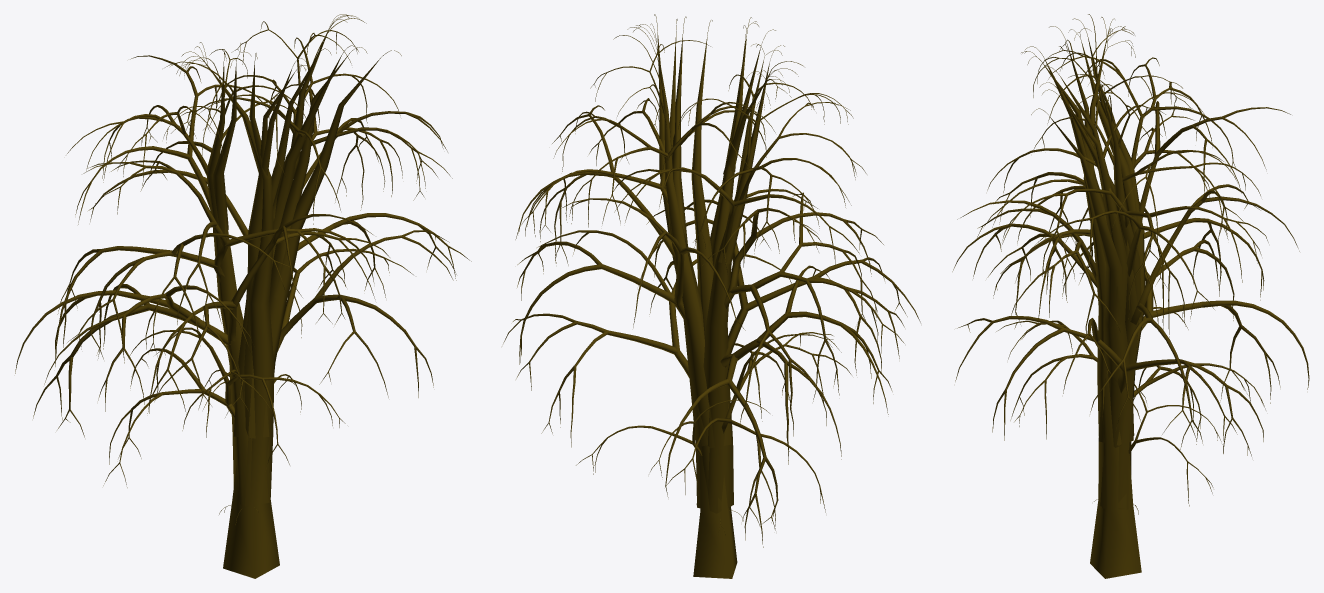
3 renders of one model, left to right at view 1: azimuth 30°, elevation 25°; view 2: azimuth 150°, elevation 25°; view 3: azimuth 270°, elevation 25°, orthographic. The views are drawn at different scales.
Parts seen in each view (by area): view 1: tree; view 2: tree; view 3: tree.
Boxes of the visible parts, <box> form: tree: <box>15,14,471,578</box>; tree: <box>503,14,920,578</box>; tree: <box>952,14,1309,578</box>.
Size of the model in its own units: 572 by 726 by 445.
